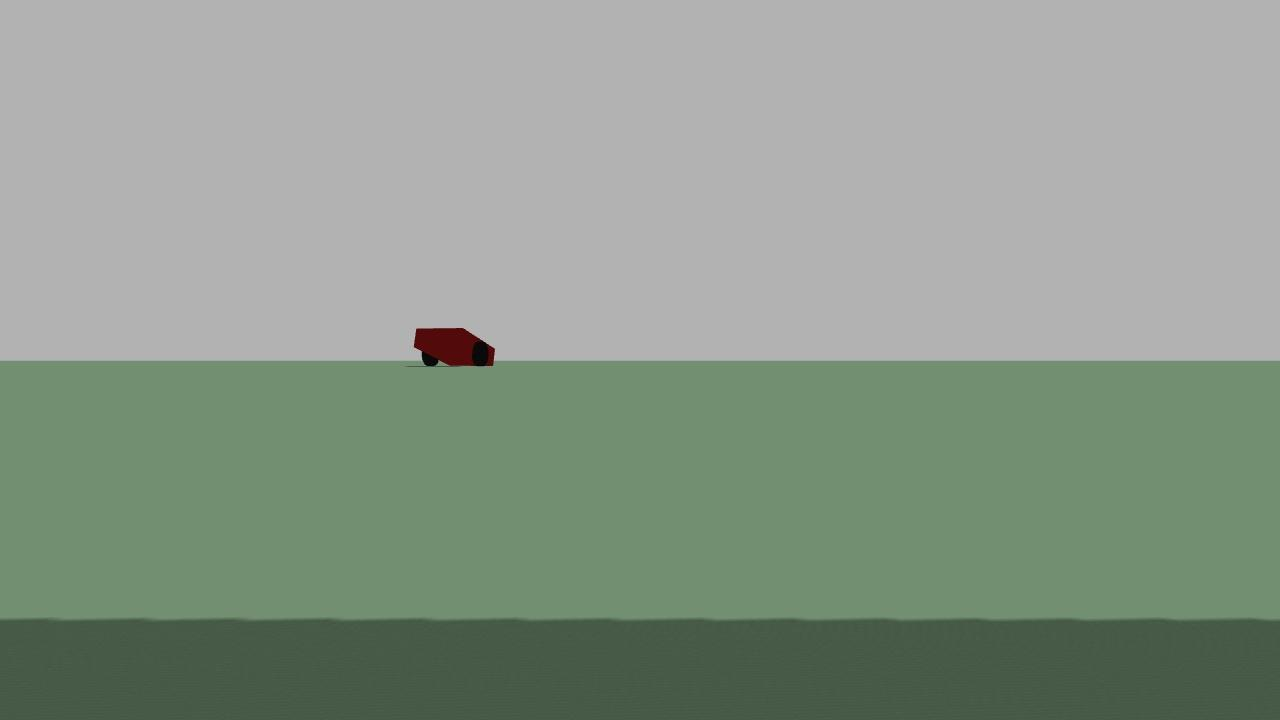ground_vehicle: (408, 318, 505, 373)
